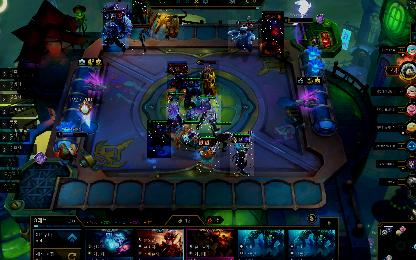1_idas: (150, 8, 184, 40)
1_kaisa: (132, 26, 152, 54)
1_shyvana: (167, 61, 187, 89)
1_swain: (132, 0, 146, 24)
1_syfen: (106, 2, 130, 26)
1_yasuo: (262, 11, 284, 55), (166, 92, 184, 128)
2_daeja: (103, 10, 125, 52)
2_graves: (230, 132, 254, 176)
2_leesin: (147, 120, 171, 158)
2_nunu: (228, 20, 258, 52)
2_pantheon: (191, 95, 221, 133)
2_seraphine: (176, 119, 200, 149)
2_zac: (178, 76, 202, 110)
2_zeri: (196, 136, 220, 172)
3_leona: (197, 60, 219, 96)
